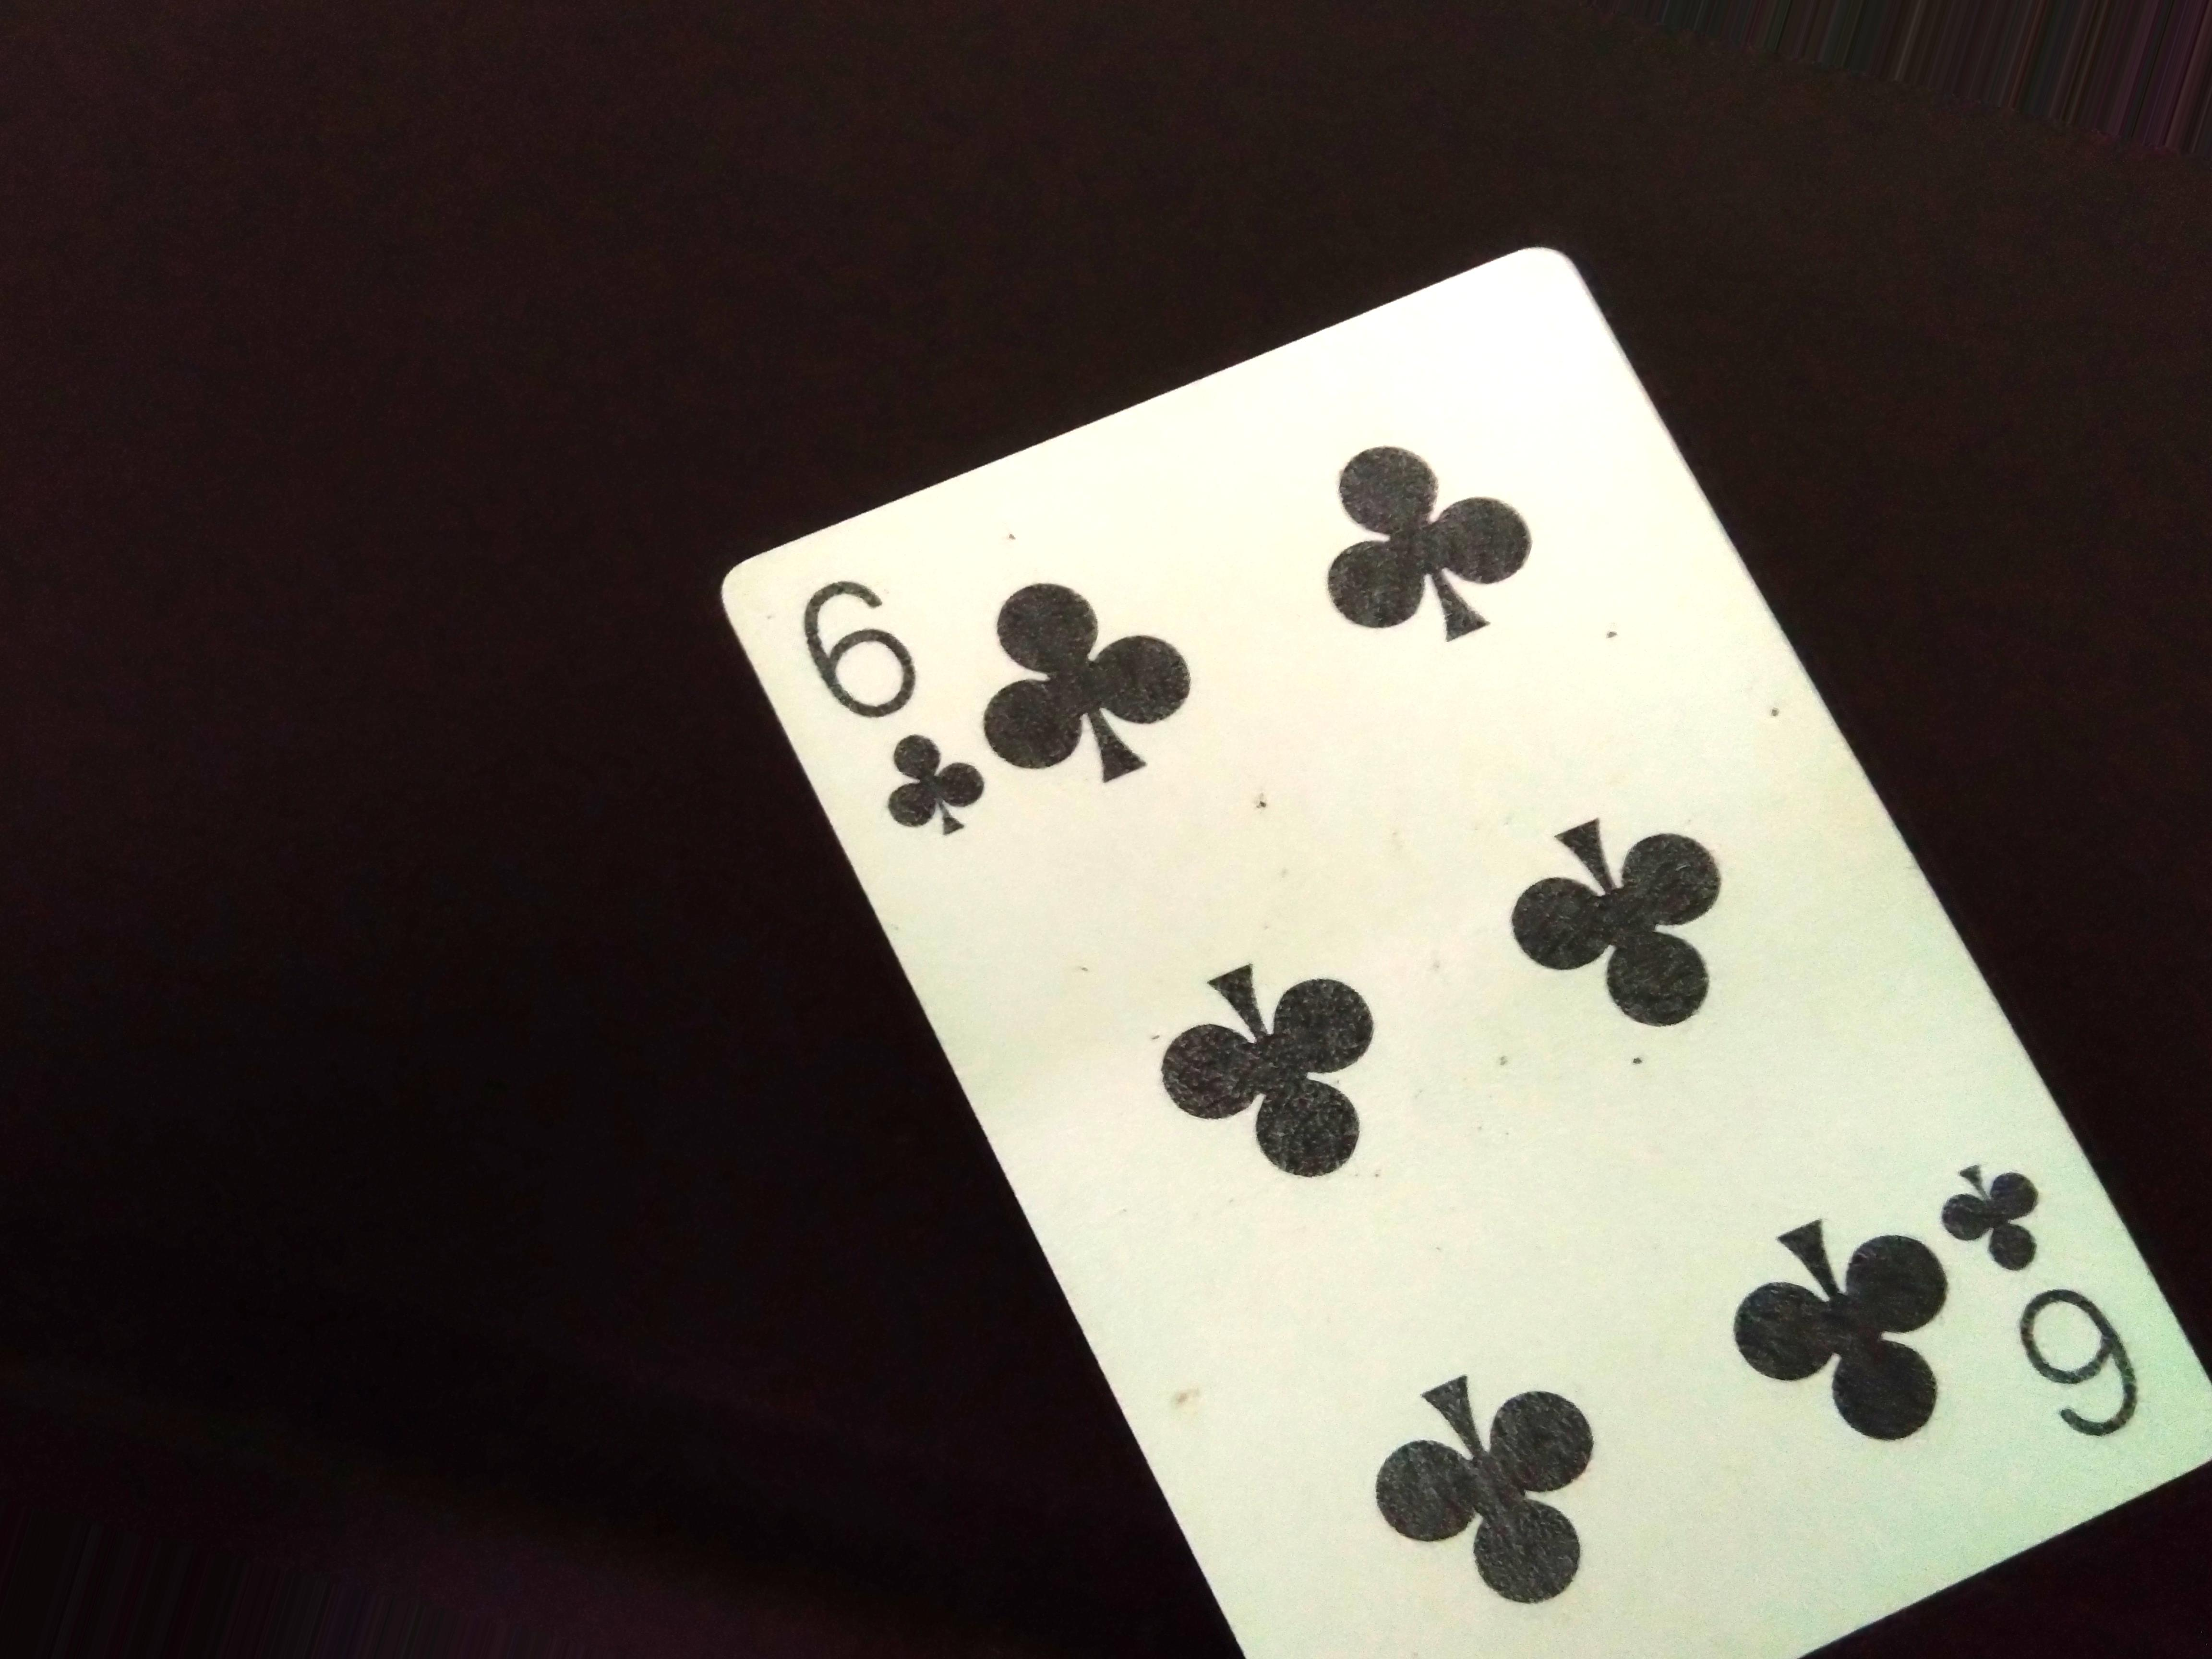6C: (799, 575, 995, 866)
